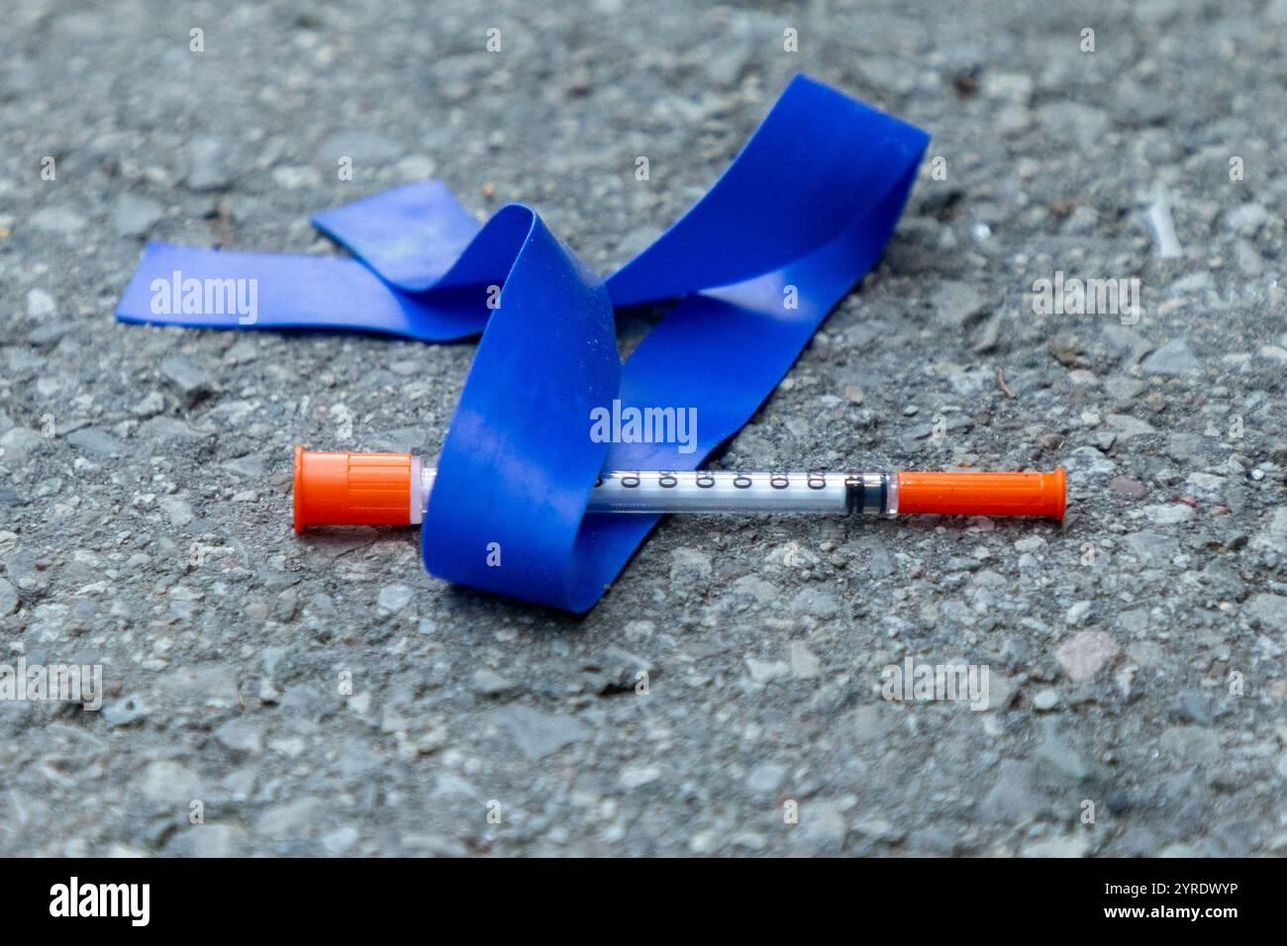Syringe: (587, 468, 1065, 519)
